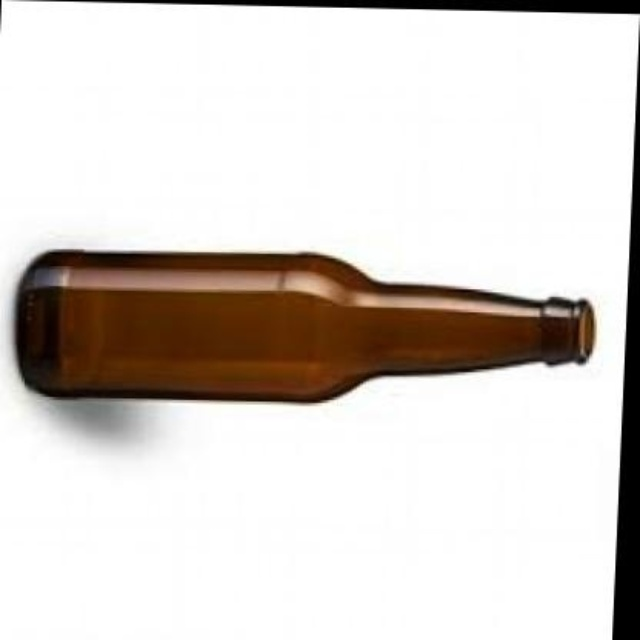trash: (15, 251, 592, 400)
